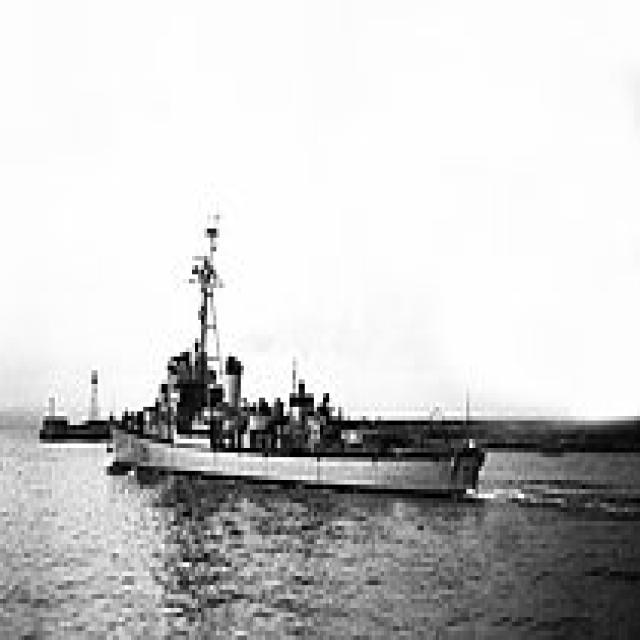Warship: (104, 206, 488, 498)
